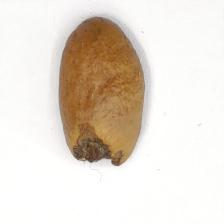NG: (65, 128, 135, 167)
